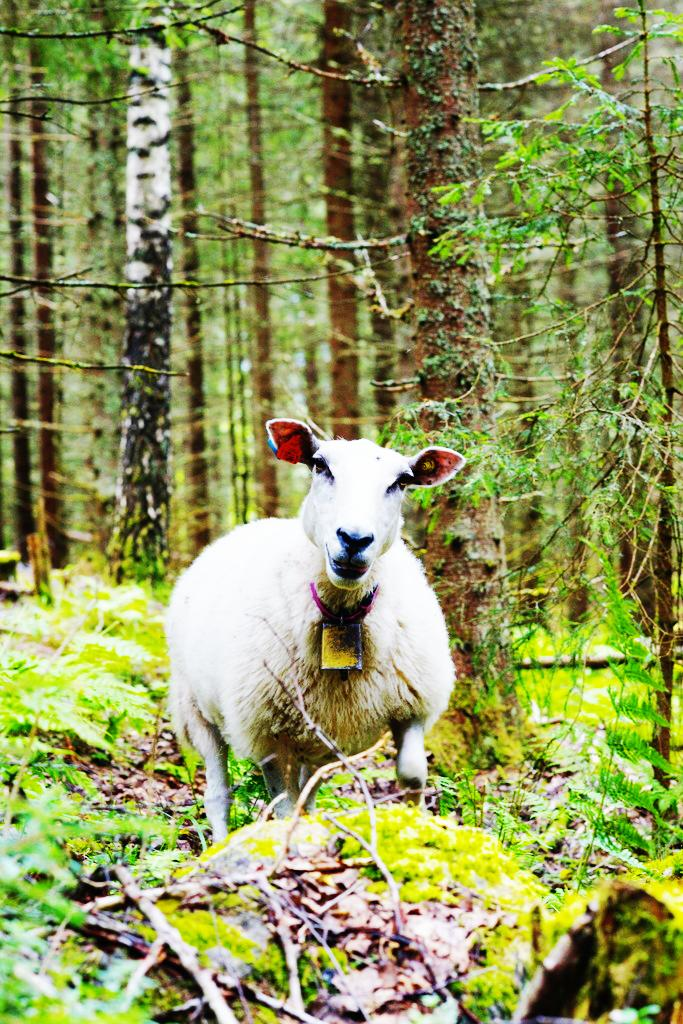Sheep: (166, 417, 468, 847), (166, 418, 468, 842)
